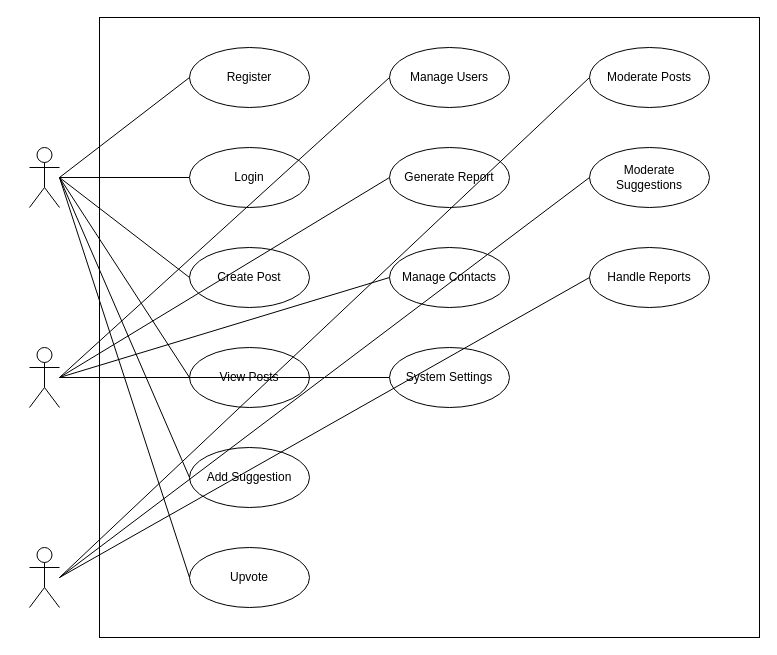
Image size: 777x655. Some labels were removed from this diagram. Here are the shapes that lost their labels. From the top down, the box of each, then its label:
(28, 146, 60, 208): User
(28, 346, 60, 408): Admin
(28, 546, 60, 608): Moderator
